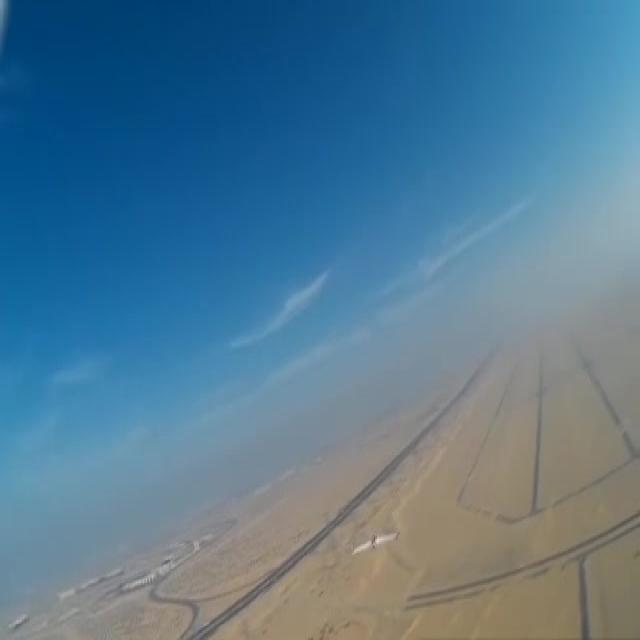iha: (352, 529, 401, 557)
